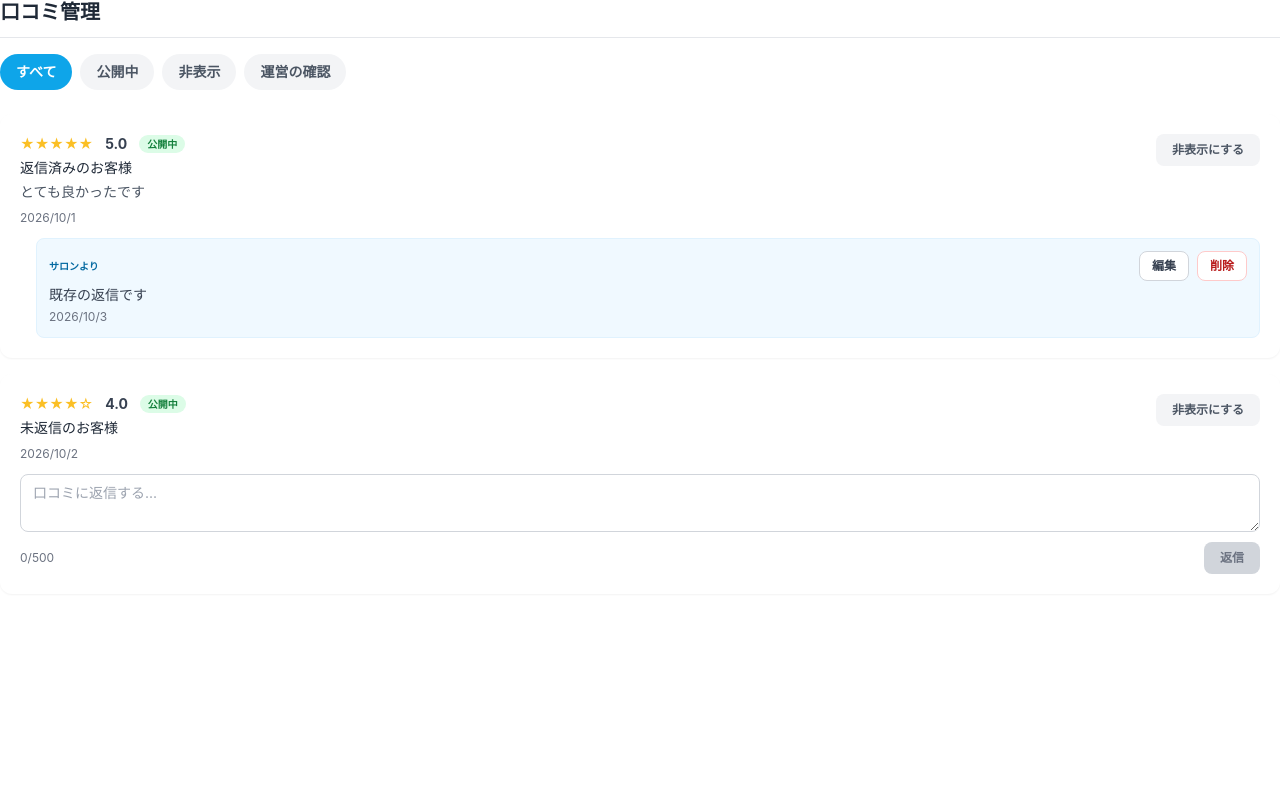
Test: 公開 › 他の管理者が先に返信していた（409）ときは理由を出し、今の返信を読み直す
Type "重複" into the text box with placeholder "口コミに返信する...".
click(640, 503); type("重複")  # box [20, 474, 1260, 532]
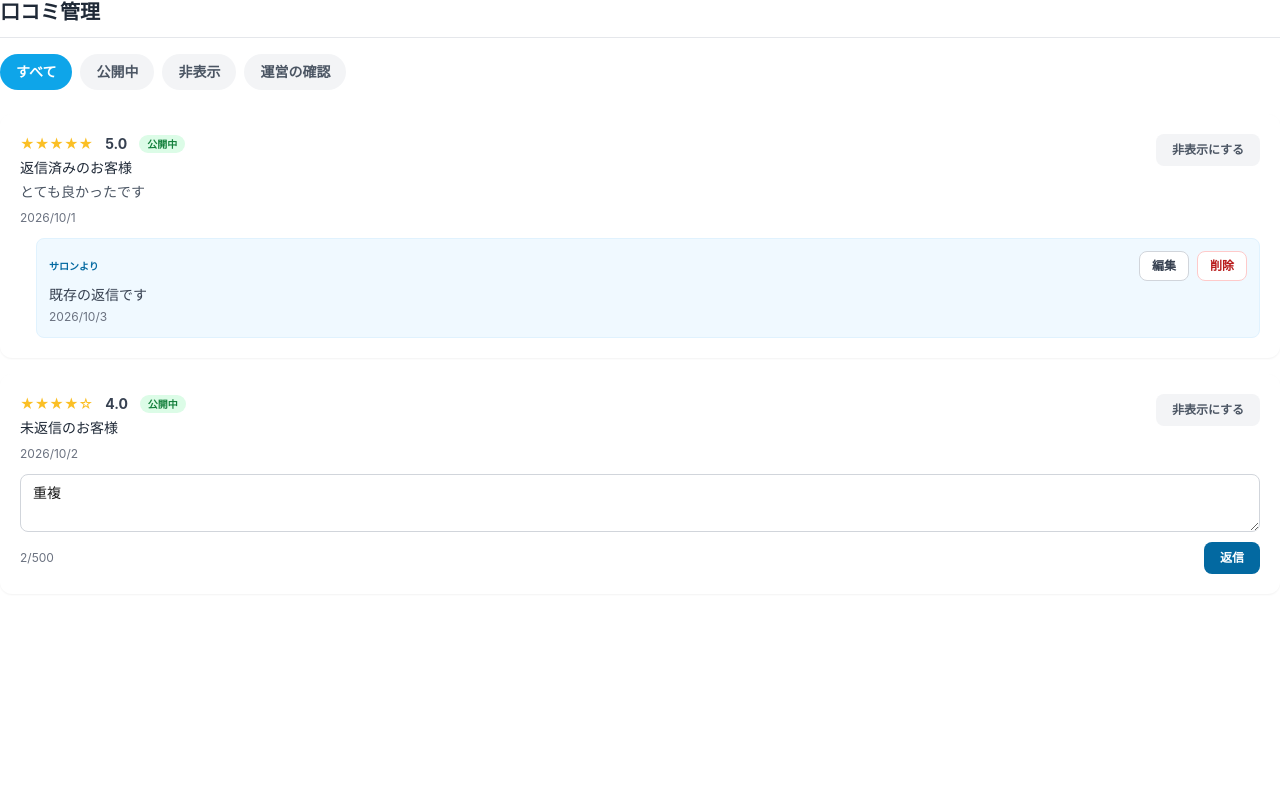
Click the button "返信".
click(1232, 558)  # box [1204, 542, 1260, 574]
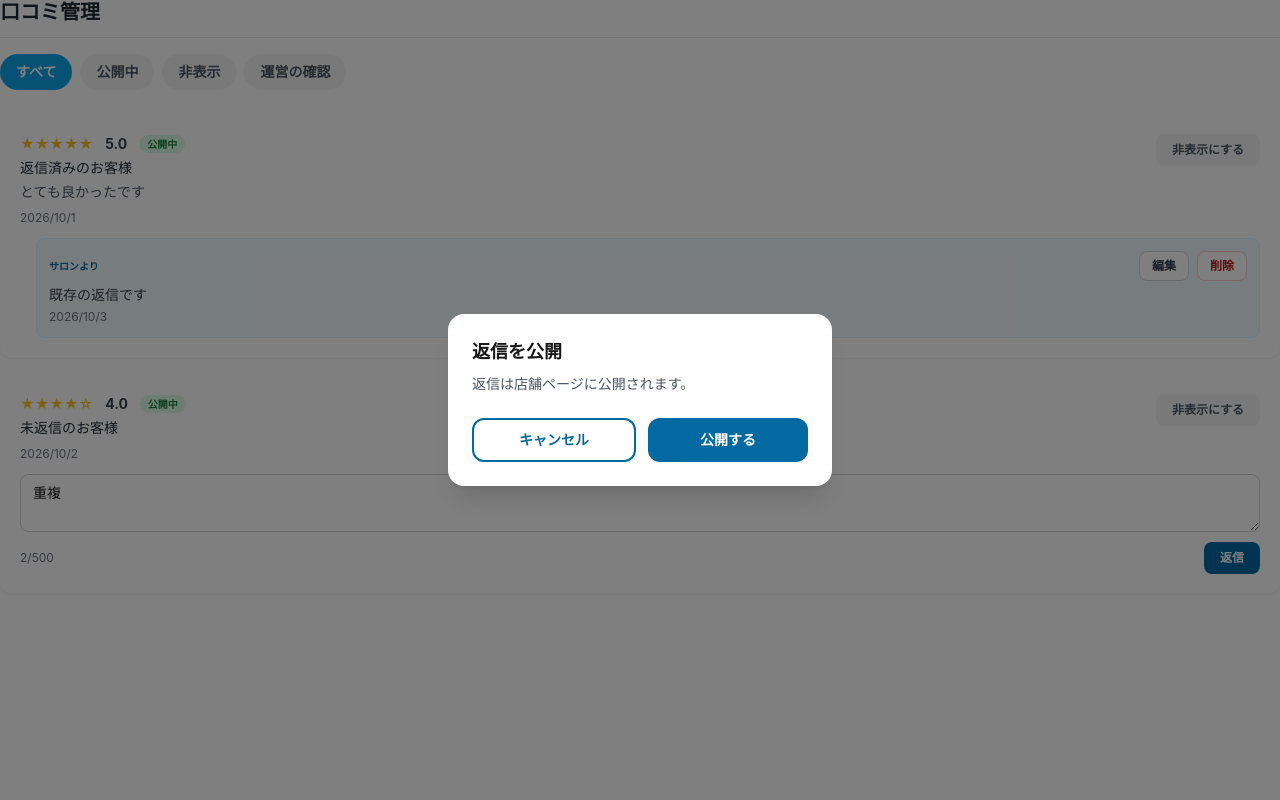
Click the button "公開する".
click(728, 440)  # box [648, 418, 808, 462]
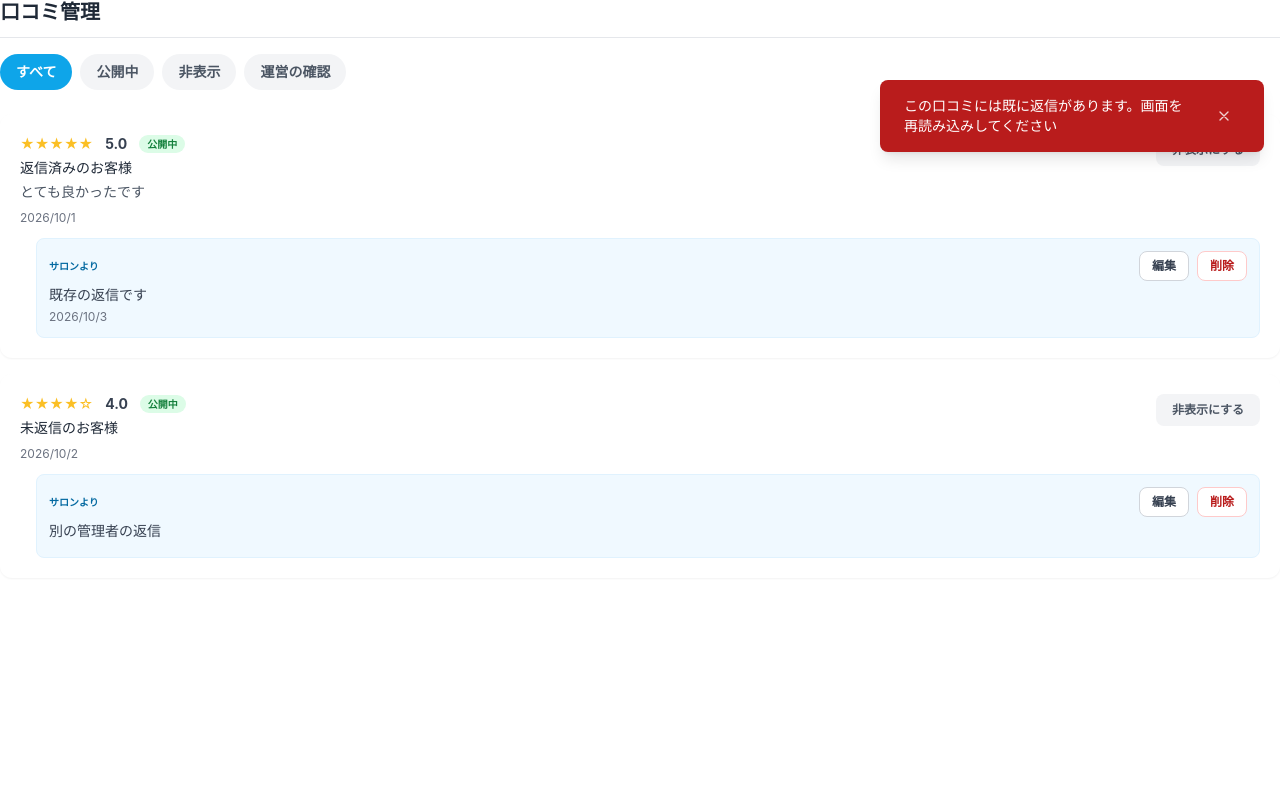
Check: the message reads "この口コミには既に返信があります。画面を再読み込みしてください", box [904, 97, 1183, 134]
